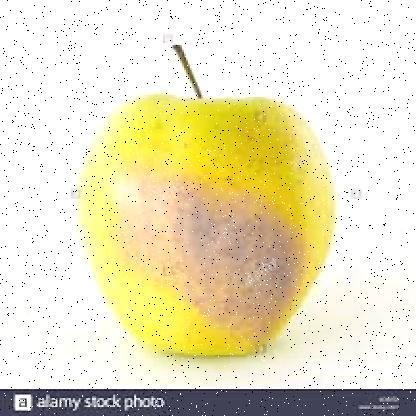damaged_apple: (82, 88, 336, 362)
